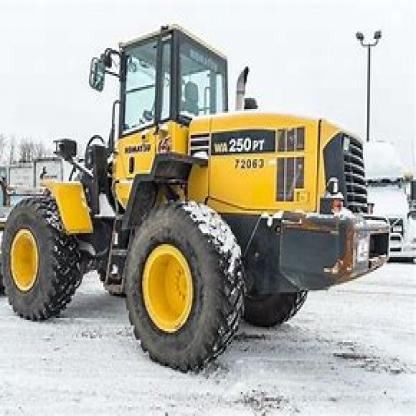bull_dozer/loader/grader: (0, 20, 393, 388)
